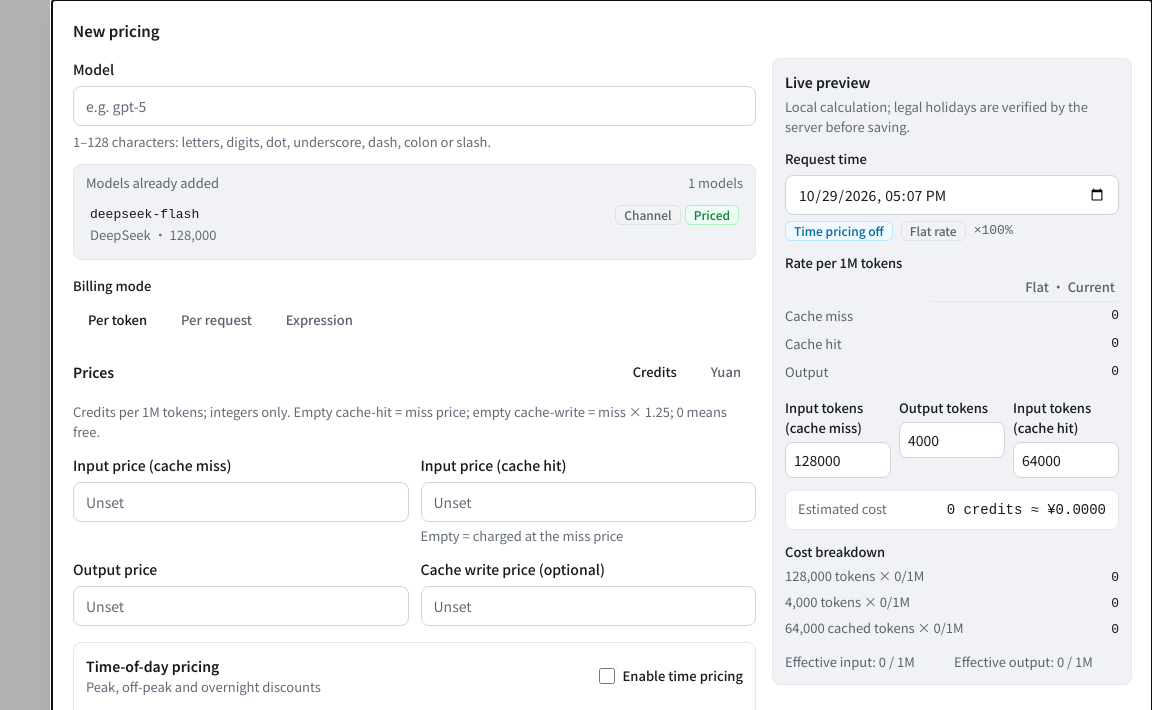
Test case: PricingMutateSheet expression preview › marks an invalid expression red at the editor and previews a valid one
Click the button "Expression" at (319, 320), box [271,302,368,338]
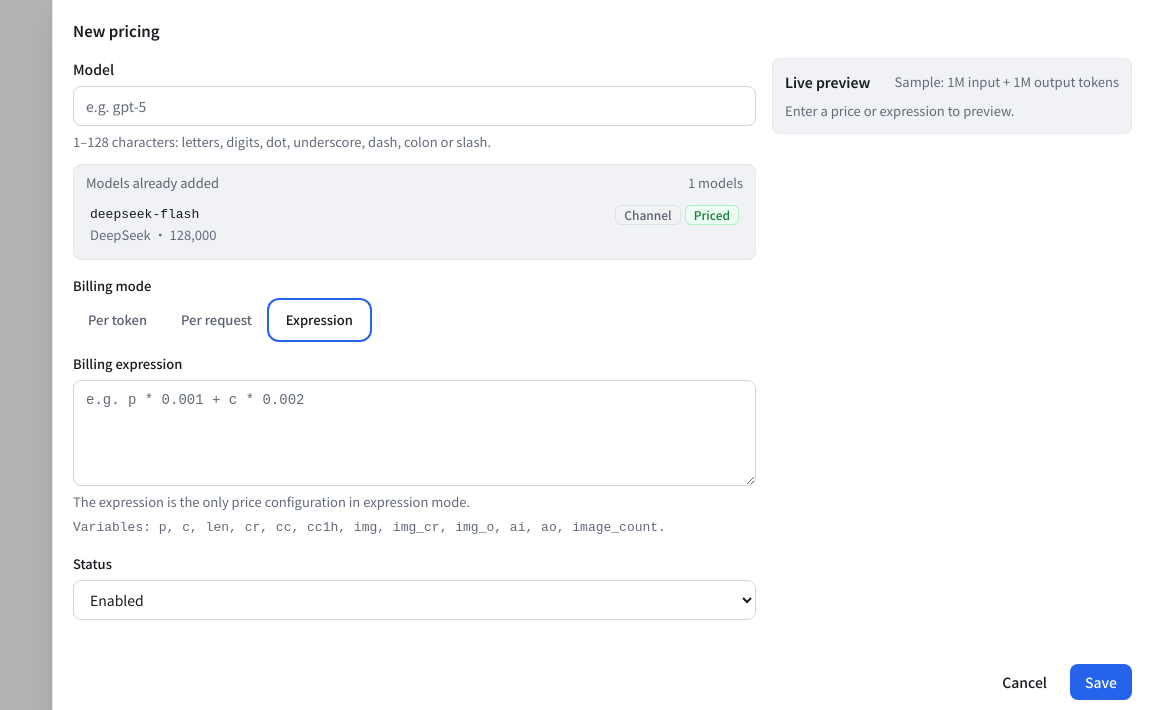
Type "p *" into the text box labelled "Billing expression" at (414, 433), box [73,380,756,486]
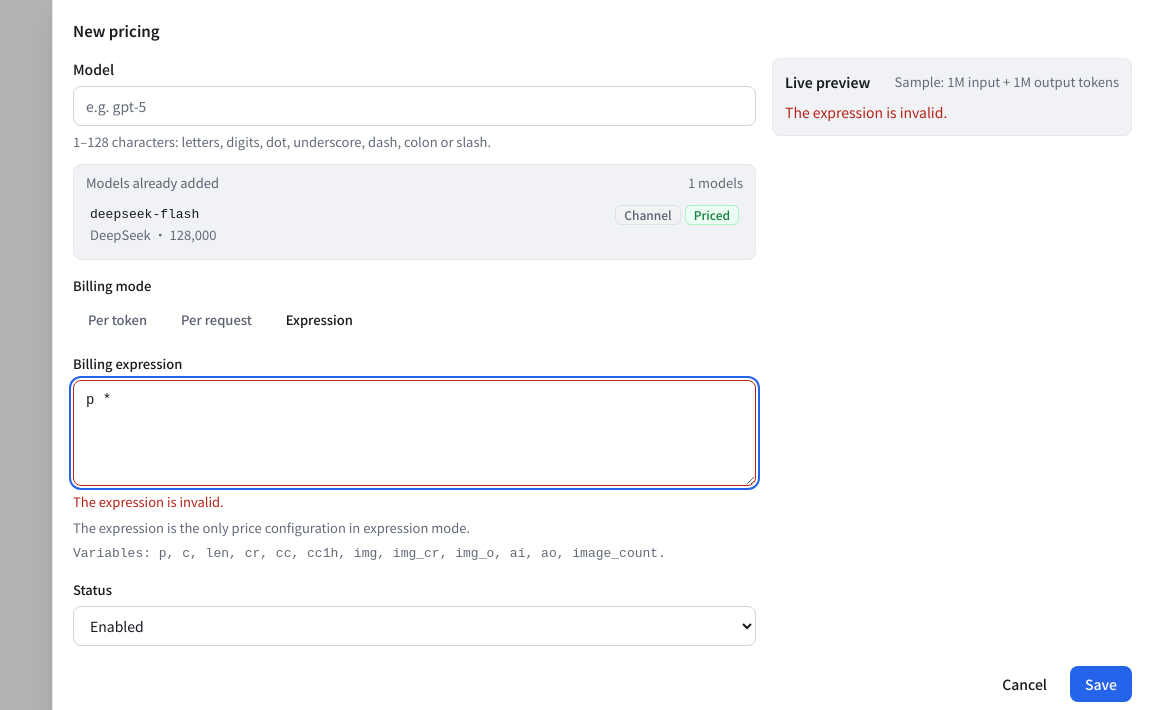
Now the text "The expression is invalid." below "Billing expression" is shown, box [73,492,224,511]
Replace the text in the text box labelled "Billing expression" with "p * 0.001" at (414, 433), box [73,380,756,486]
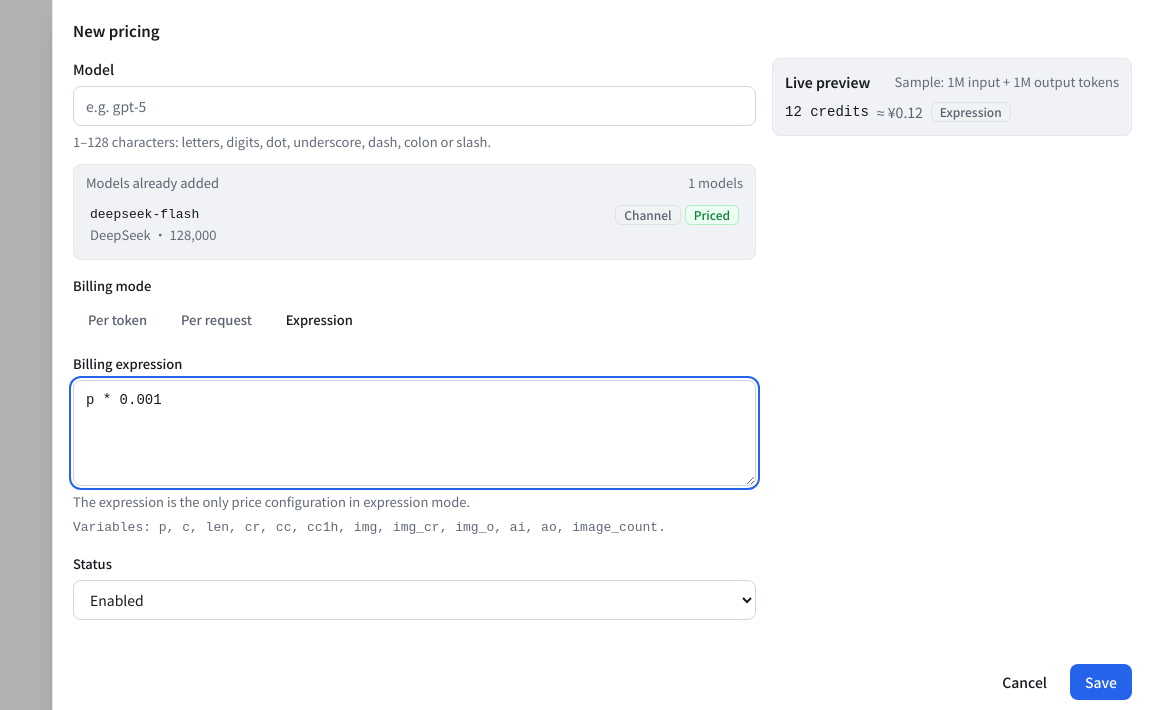
Now the text "12 credits" is shown, box [785,101,869,123]
